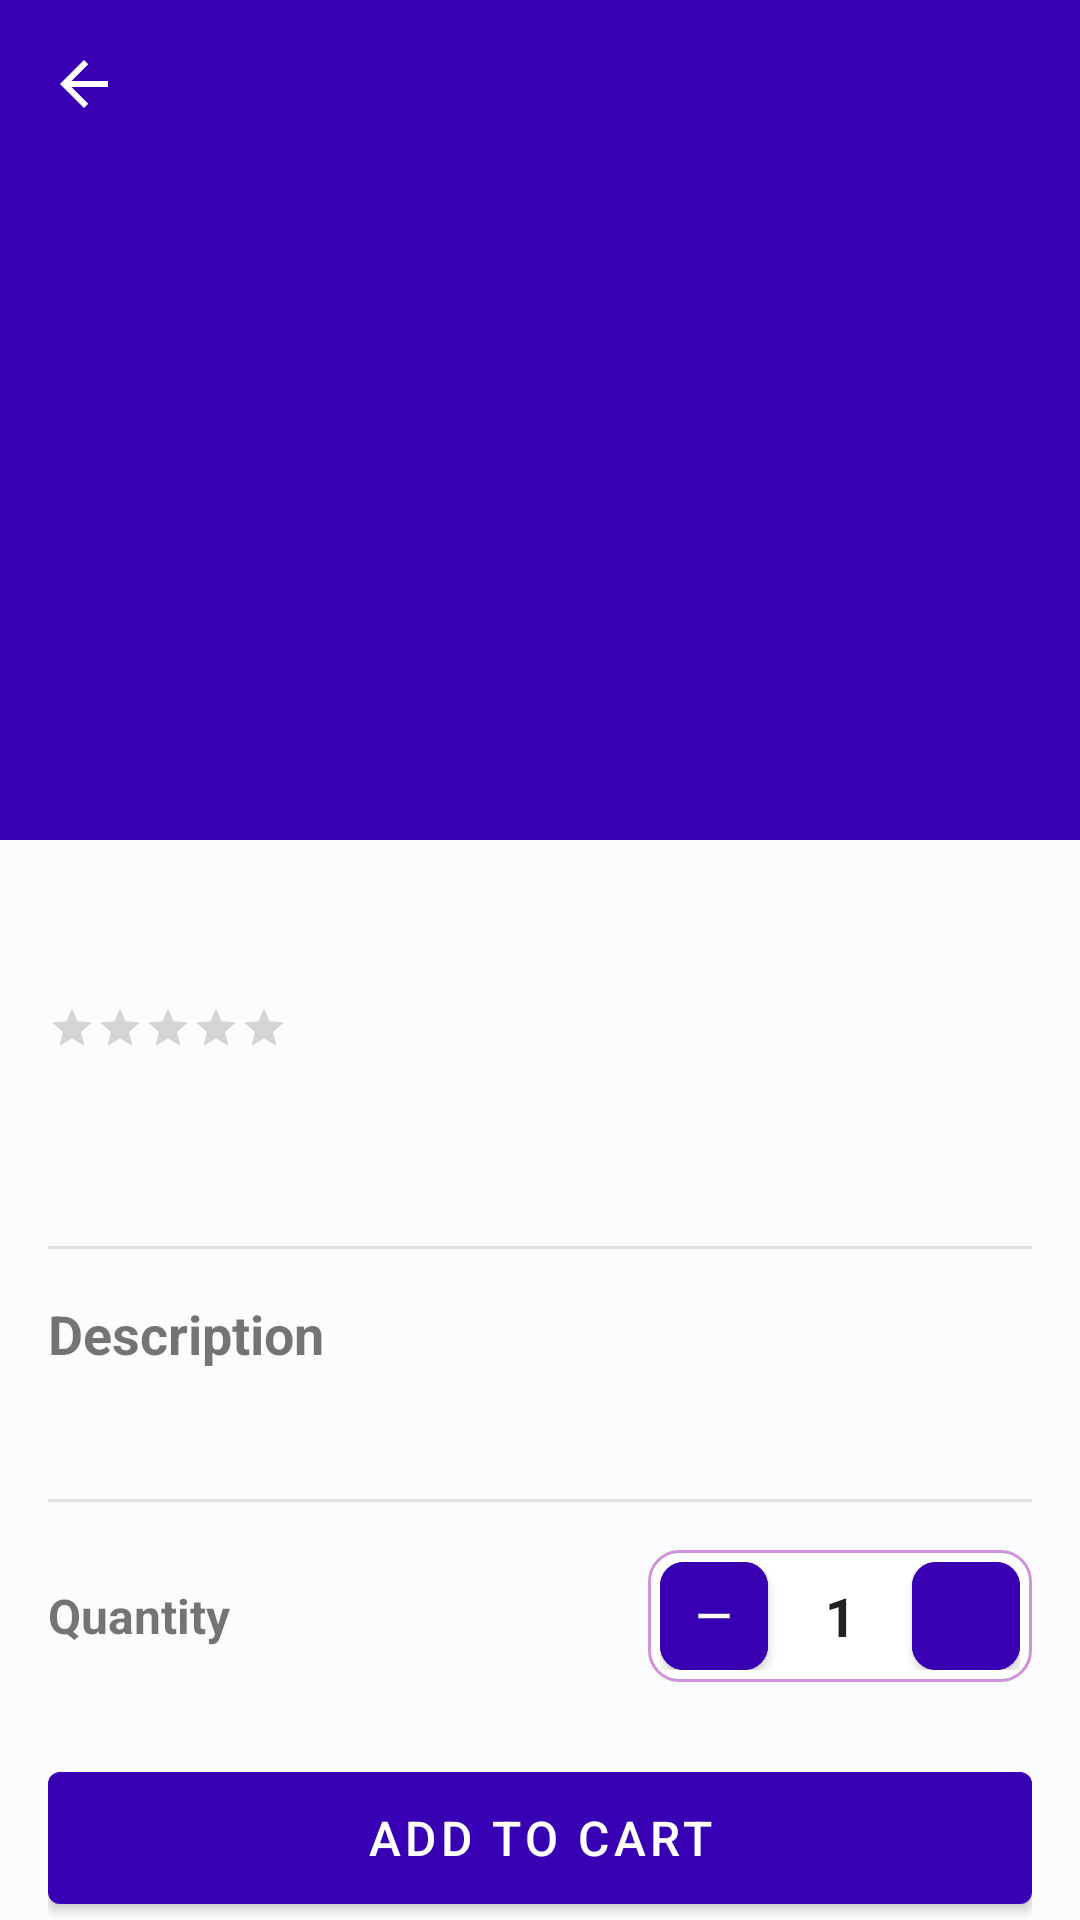

Icons on this 1080px×1920px Android screen, each with its box as (x1, y1, x2, y2):
remove: (660, 1562, 768, 1670)
